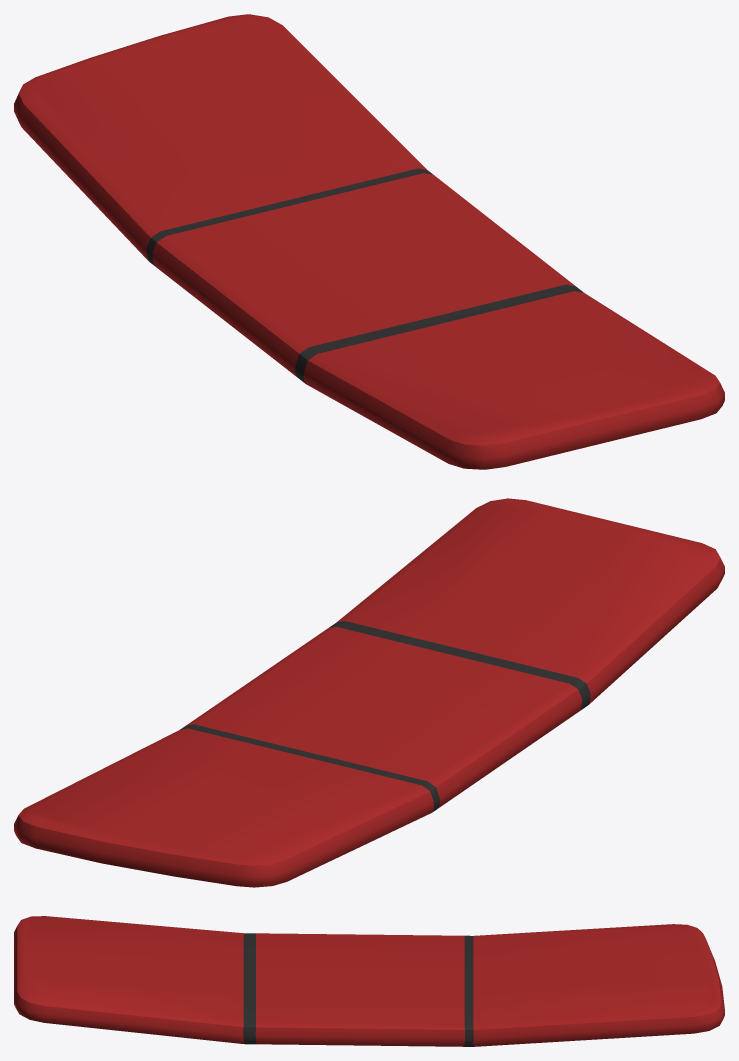
The model's file is SM_Wing_B_R.fbx.
3 views of the same model, one above another, from view 1: azimuth 30°, elevation 25°; view 2: azimuth 150°, elevation 25°; view 3: azimuth 270°, elevation 25° (orthographic). The views are drawn at different scales.
Visible parts, largest first — view 1: SM_Wing_B_R; view 2: SM_Wing_B_R; view 3: SM_Wing_B_R.
Part boxes in pixels (box(x1,y1,x2,y2)): SM_Wing_B_R: box(14, 14, 724, 469); SM_Wing_B_R: box(14, 498, 724, 887); SM_Wing_B_R: box(14, 916, 724, 1046).
Size of the model in its own units: 2.08 by 6 by 0.3745.
